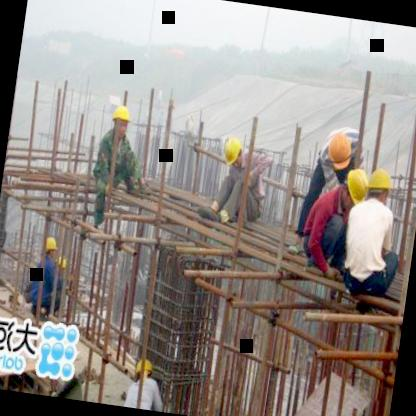helmet: (320, 126, 356, 175), (364, 164, 396, 210), (340, 167, 372, 209), (106, 100, 135, 142), (221, 134, 249, 172), (36, 230, 61, 262), (132, 354, 156, 384)
